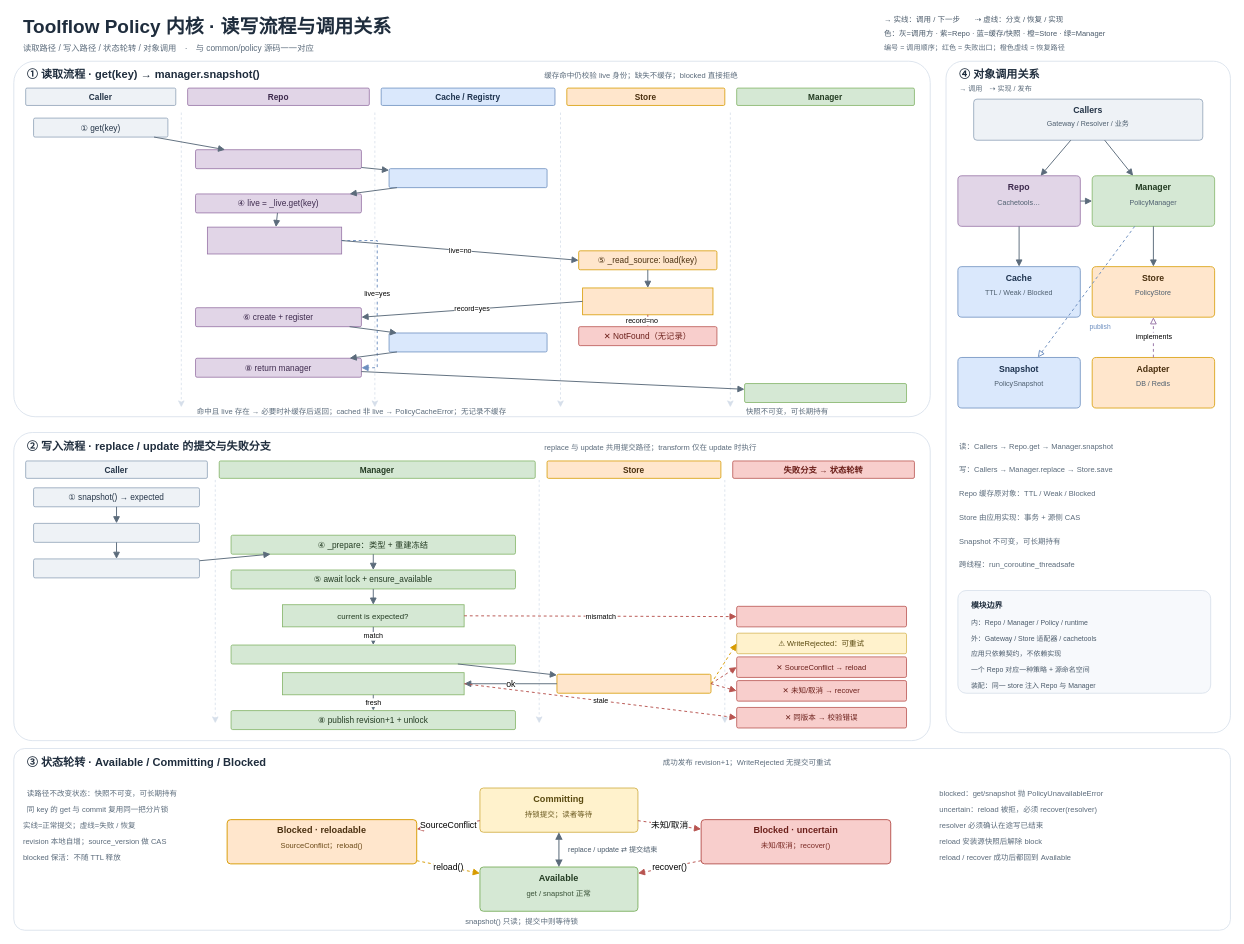
Image size: 1244x944. Some labels were removed from this diagram. Here are the shapes that lost their labels. From the top down, the centre of each, then its label:
At [278,159]: "② check_access + lock".
At [467,178]: "③ read cache (expire)".
At [274,240]: "live exists?".
At [647,301]: "record?".
At [467,342]: "⑦ write cache".
At [825,393]: "⑨ snapshot()".
At [116,532]: "② transform(policy)".
At [116,568]: "③ replace(cand, expected)".
At [821,616]: "✕ PolicyConflictError".
At [372,654]: "⑥ finish_before_unlock(save)".
At [373,683]: "version fresh?".
At [633,683]: "⑦ save(CAS version)".
